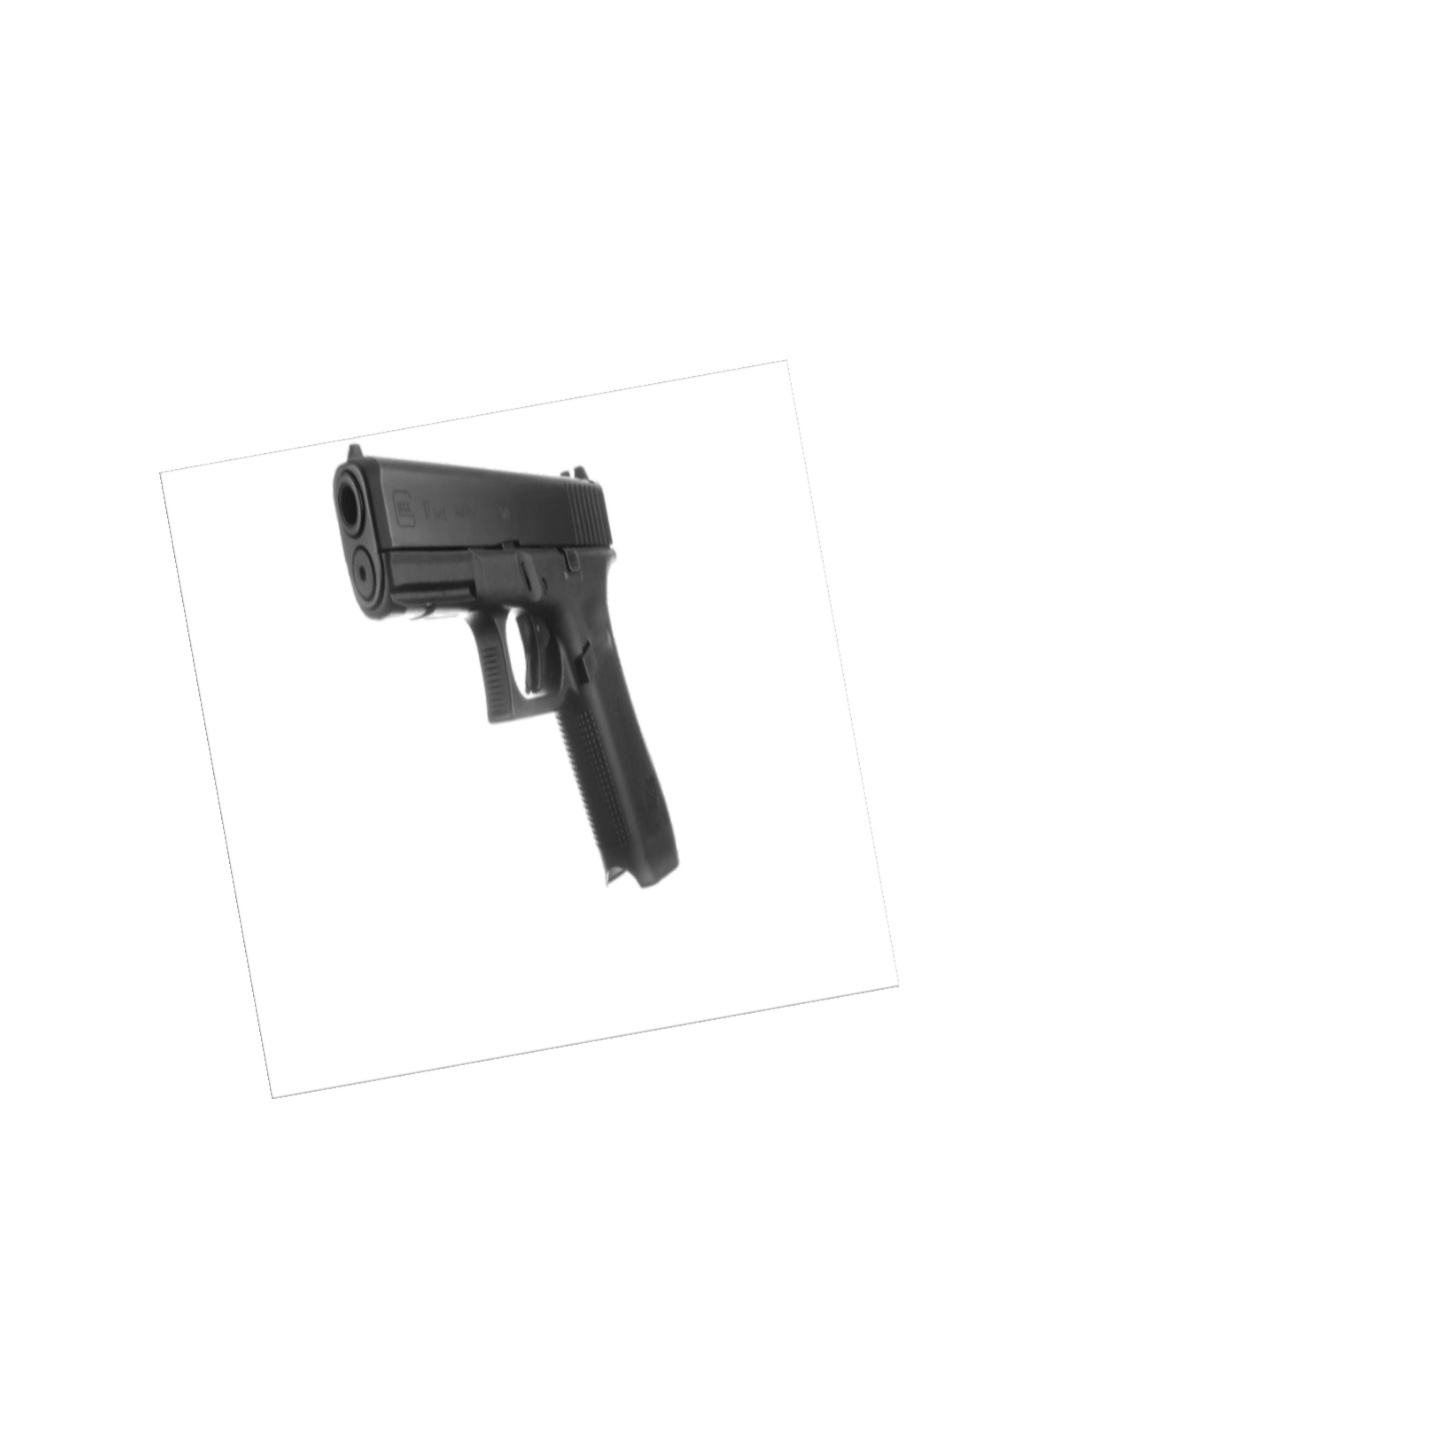gun: (315, 432, 716, 901)
